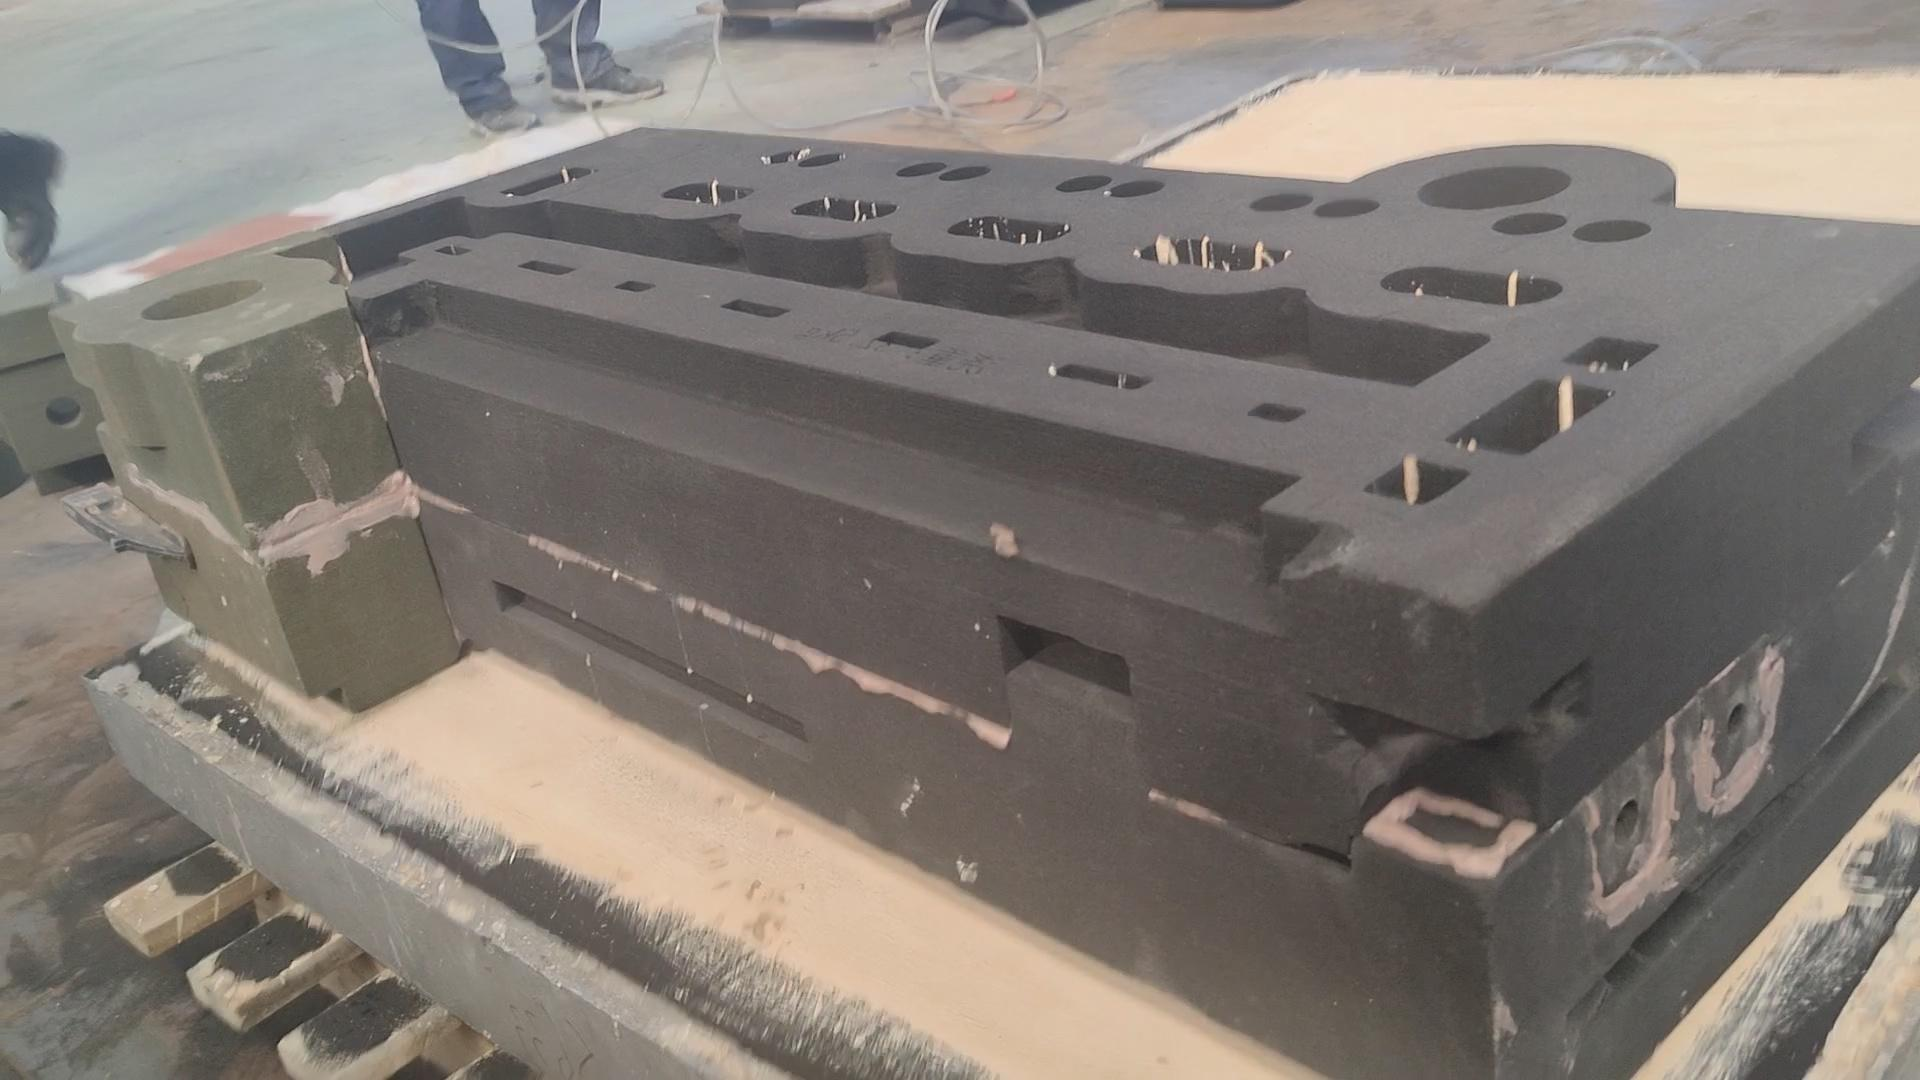pouring hole: (1416, 164, 1571, 210), (140, 277, 262, 322)
